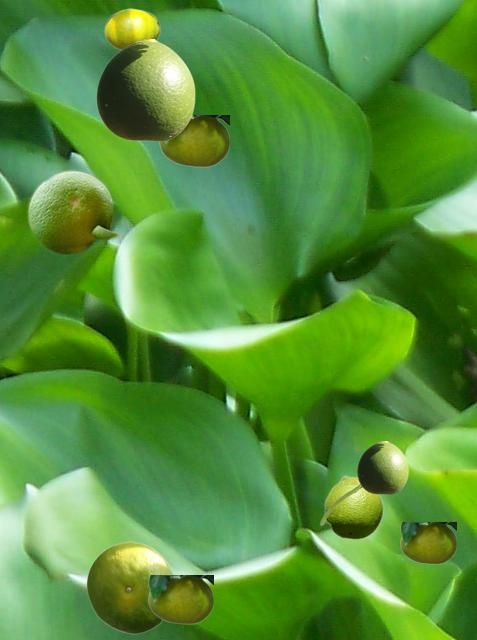dalandan: (96, 39, 194, 140), (86, 541, 174, 633), (26, 168, 119, 254), (319, 475, 383, 539), (159, 115, 228, 166), (148, 575, 212, 623), (357, 441, 407, 493), (104, 8, 159, 49), (400, 522, 455, 563)
